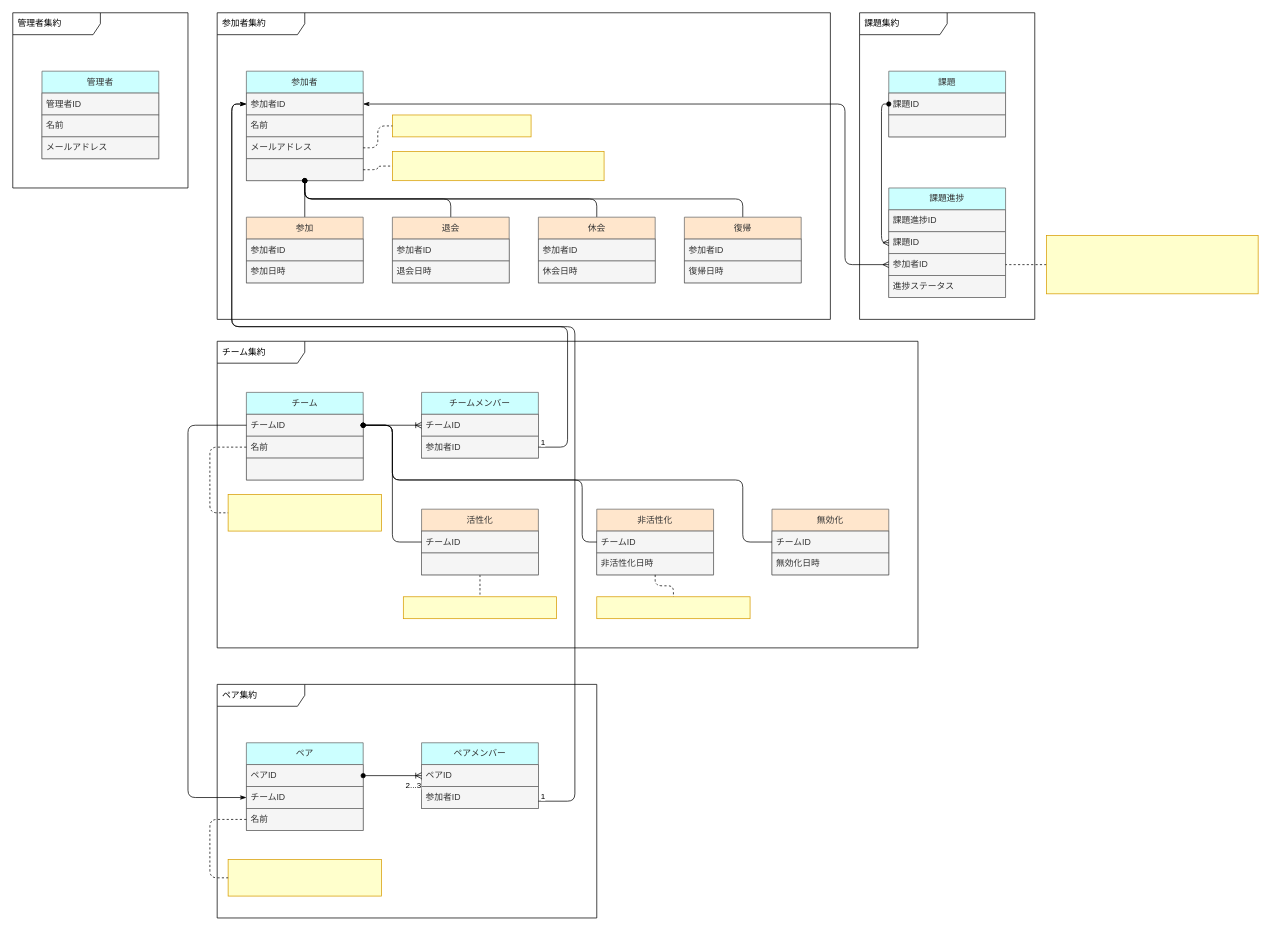
The diagram is 1271 pixels wide and 931 high, and some of its shapes have lost their labels. The centre of each missing label's shape, as x and y in pixels:
"・1文字 ・英字 (a.b,c,d,e...)" belongs at pixel 304 877.
"・「在籍中」「休会中」「退会済」のみ取り扱う ・在籍中ではない場合、チーム、ペアには属さない" belongs at pixel 498 166.
"・チームメンバーが3人いない状態" belongs at pixel 673 607.
"・チームメンバーが3人以上いる状態" belongs at pixel 480 607.
"・数字のみ ・重複不可 ・3文字以下" belongs at pixel 304 512.
"・未着手、レビュー待ち、完了 ・いつでも変更可 ・「完了」から、変更は不可 ・課題の所有者だけ変更可能" belongs at pixel 1152 264.
"・重複不可" belongs at pixel 461 125.
"在籍ステータス" belongs at pixel 304 169.
"活性化ステータス" belongs at pixel 304 468.
"活性化日時" belongs at pixel 479 563.
"課題名" belongs at pixel 947 125.
